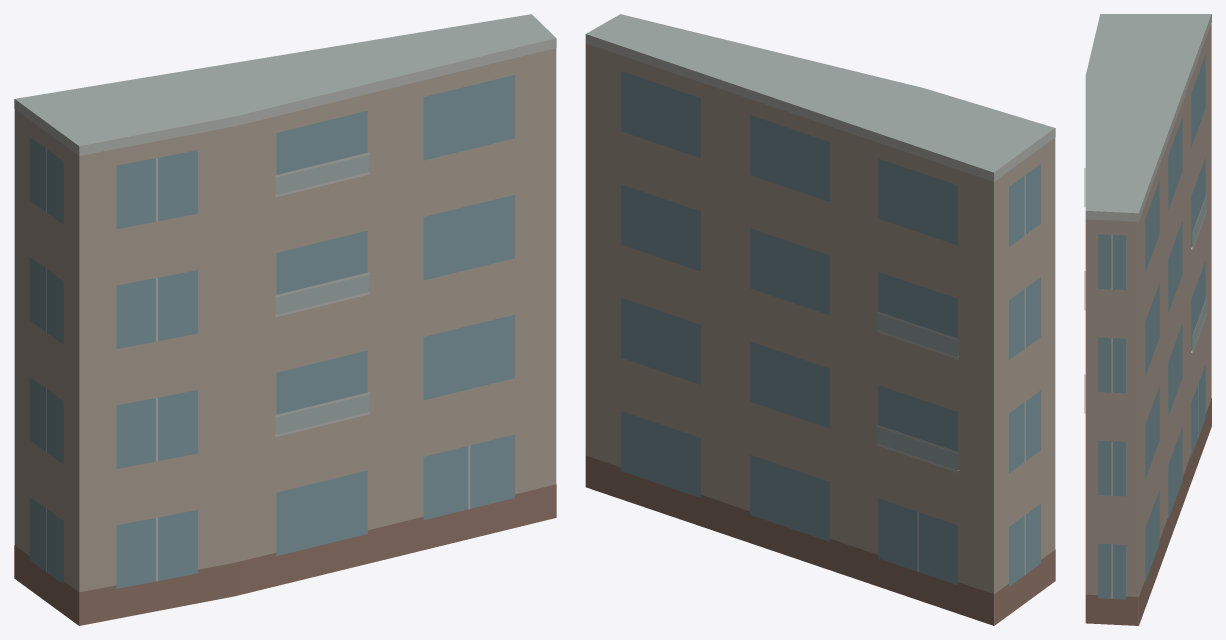
Rendered from survey-upis-32487850.glb.
The picture shows the model from 3 angles, left to right: view 1: azimuth 30°, elevation 25°; view 2: azimuth 150°, elevation 25°; view 3: azimuth 270°, elevation 25°; orthographic projection. The views are drawn at different scales.
Visible parts, largest first — view 1: survey-upis-32487850.tmp; view 2: survey-upis-32487850.tmp; view 3: survey-upis-32487850.tmp.
Part boxes in pixels (left/top/right/bottom): survey-upis-32487850.tmp: left=14, top=14, right=556, bottom=625; survey-upis-32487850.tmp: left=585, top=14, right=1055, bottom=625; survey-upis-32487850.tmp: left=1084, top=14, right=1211, bottom=625.
Bounding box in the file's own units: 12.34 × 11.9 × 3.34.
